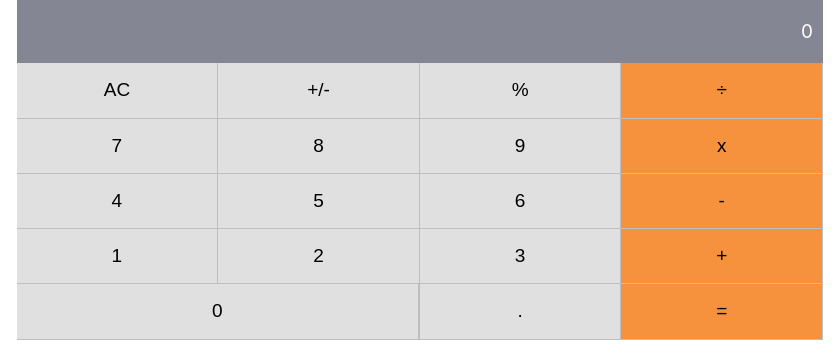
Test: User interaction button clicks in Calculator component › should perform negation when +/- button is clicked
The image size is (840, 357).
What coordinates should you click on to do the following:
click the button "7"
I would click on:
 (117, 146)
Its box is [17,119,217,173].
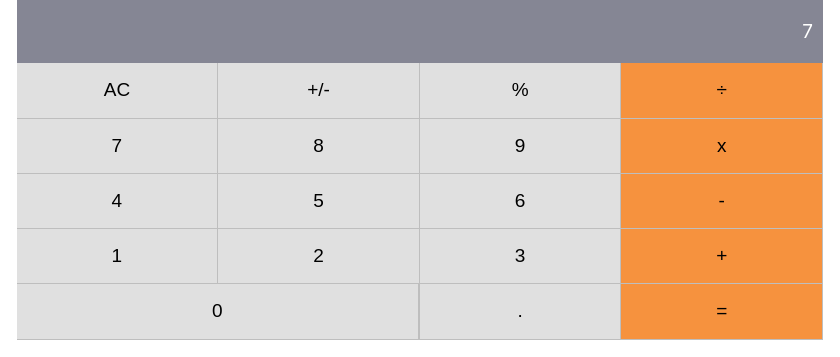
What coordinates should you click on to do the following:
click the button "+/-"
I would click on:
 (318, 90)
Its box is [218,63,419,118].
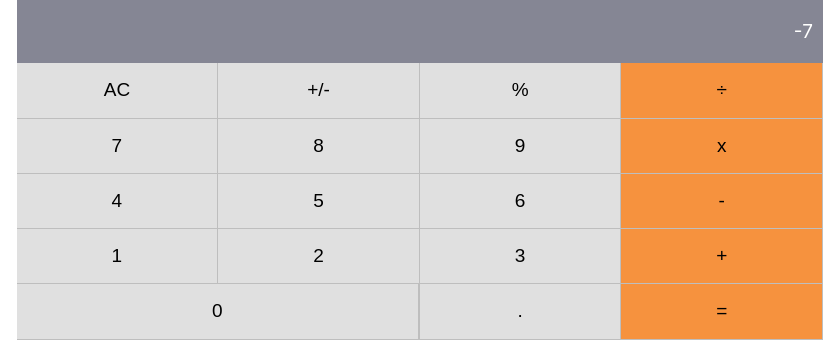
Expected: the text "-7" is shown, [17,0,823,63]
